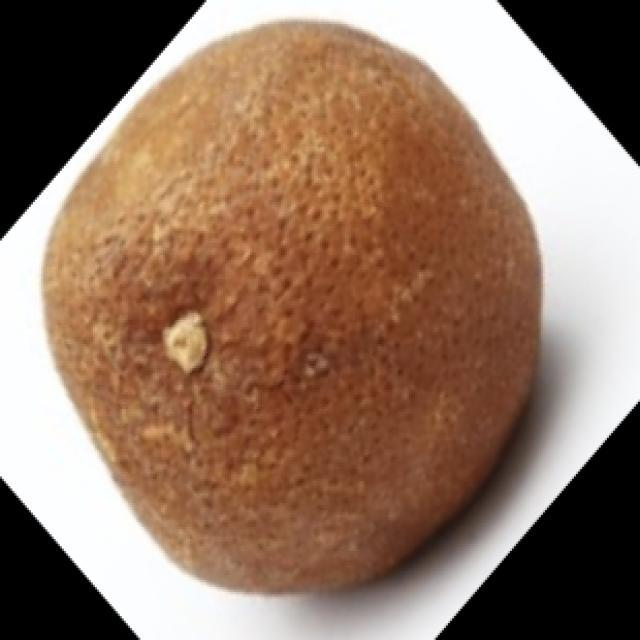sangat-busuk: (45, 22, 541, 592)
